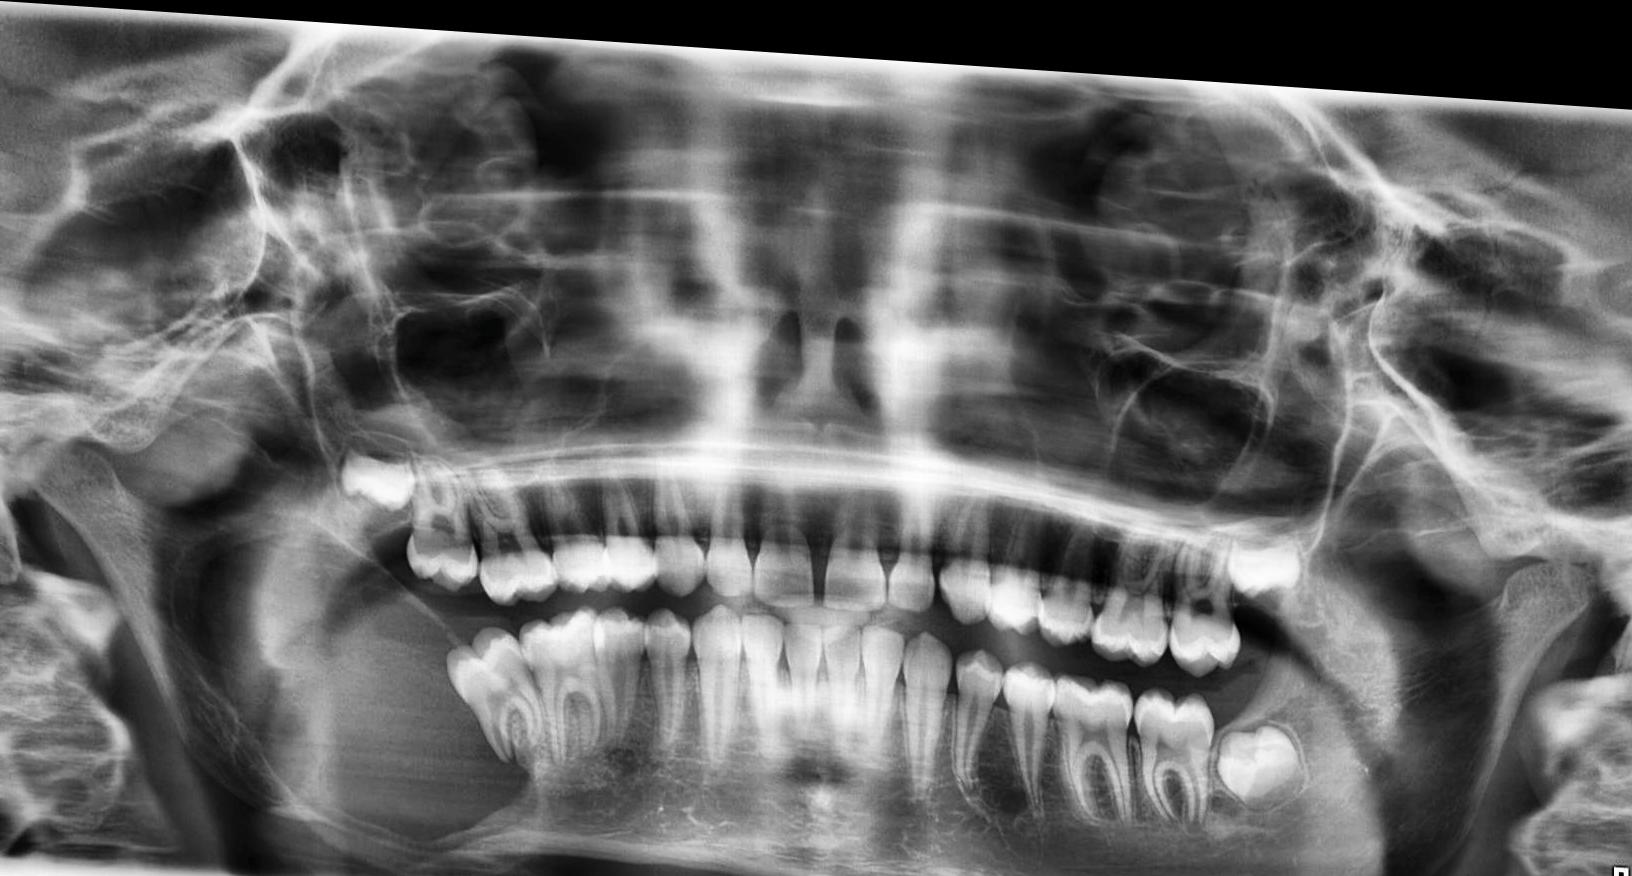okc: (168, 499, 541, 845)
